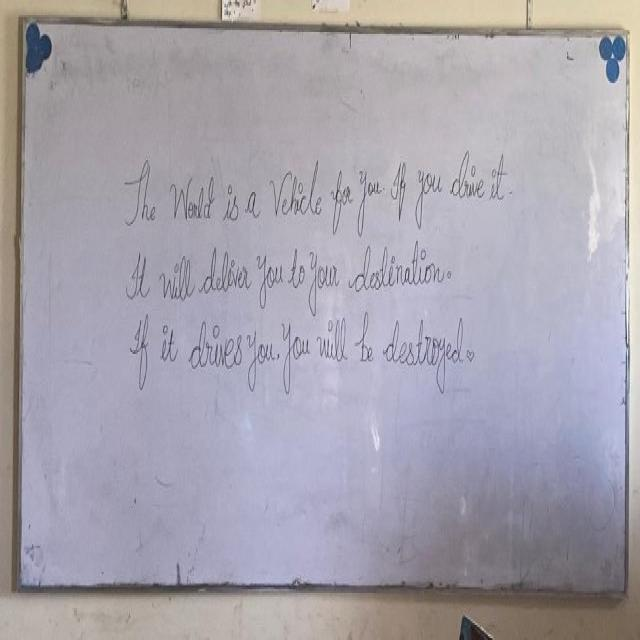White-board: (18, 26, 627, 599)
